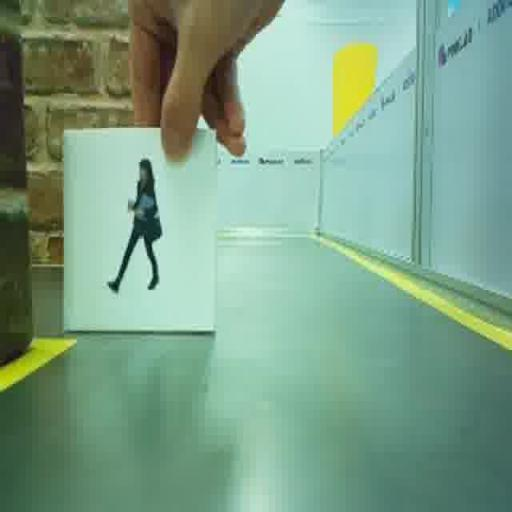human: (107, 159, 162, 292)
